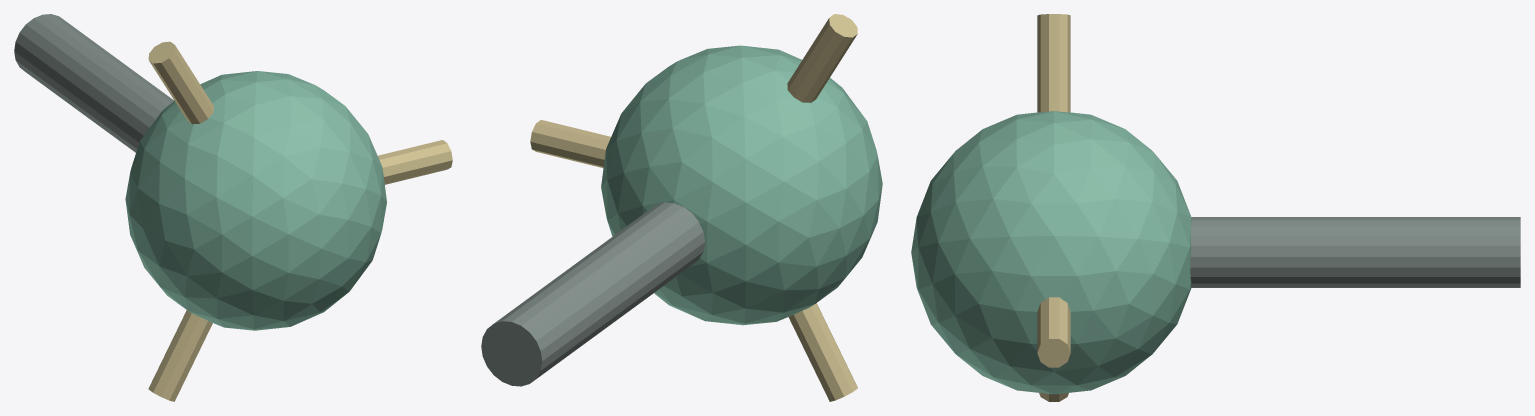
File: decision-node-high.glb
3 renders of one model, left to right at view 1: azimuth 30°, elevation 25°; view 2: azimuth 150°, elevation 25°; view 3: azimuth 270°, elevation 25°, orthographic. The views are drawn at different scales.
Visible parts, largest first — view 1: hub, stem, arm-2, arm-1, arm-0; view 2: hub, stem, arm-1, arm-2, arm-0; view 3: hub, stem, arm-1, arm-0.
Part boxes in pixels (x1,y1,x2,y2): hub: [125, 71, 386, 330]; stem: [14, 14, 174, 152]; arm-2: [148, 310, 212, 401]; arm-1: [148, 41, 213, 124]; arm-0: [378, 140, 452, 184]; hub: [601, 45, 882, 325]; stem: [481, 202, 704, 386]; arm-1: [787, 14, 857, 102]; arm-2: [788, 303, 857, 401]; arm-0: [530, 120, 610, 168]; hub: [911, 111, 1191, 394]; stem: [1190, 217, 1520, 287]; arm-1: [1037, 14, 1070, 112]; arm-0: [1037, 297, 1070, 367].
Bounding box in the file's own units: 0.8 × 0.8992 × 1.28.
